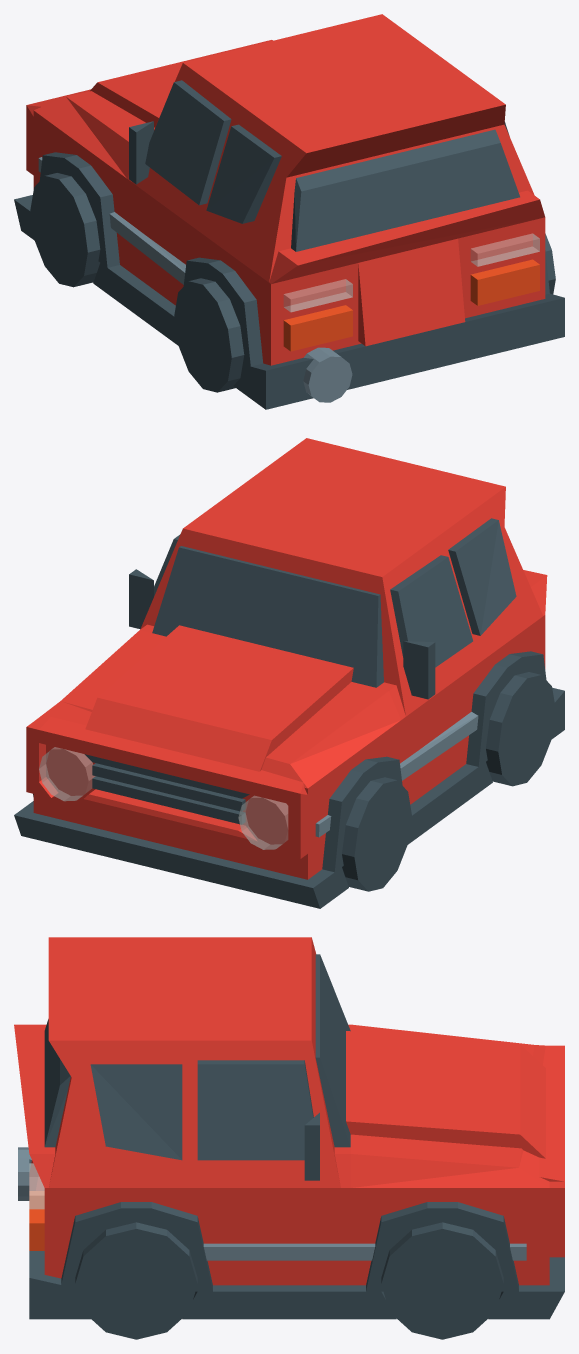
The model's file is cars.obj.
3 renders of one model, top to bottom at view 1: azimuth 30°, elevation 25°; view 2: azimuth 150°, elevation 25°; view 3: azimuth 270°, elevation 25°, orthographic. The views are drawn at different scales.
Visible parts, largest first — view 1: group2017902997, group373236087, group2118011109, group547768100, group359046379, group686971371, group2060816111, group1129954348, group1603761372, group1729932470, group740239471, group2008520726 (+5 smaller); view 2: group2017902997, group583836635, group1372723494, group547768100, group1092676882, group2060816111, group686971371, group2044362016, group10036750, group1729932470, group740239471, group2008520726 (+3 smaller); view 3: group2017902997, group842921121, group2060816111, group686971371, group2008520726, group159400031, group1372723494, group1903564485, group583836635, group116960146, group2118011109, group1092676882 (+4 smaller).
Part boxes in pixels (x1,y1,x2,y2): group2017902997: (33,14,545,365); group373236087: (291,129,519,251); group2118011109: (233,293,564,409); group547768100: (145,80,281,223); group359046379: (358,238,465,346); group686971371: (174,233,555,392); group2060816111: (30,173,100,287); group1129954348: (283,279,352,351); group1603761372: (470,233,539,305); group1729932470: (39,152,119,267); group740239471: (183,257,263,366); group2008520726: (93,263,178,345); group2017902997: (33,438,547,879); group583836635: (152,546,383,687); group1372723494: (26,717,314,858); group547768100: (390,518,516,667); group1092676882: (14,801,348,908); group2060816111: (33,777,411,891); group686971371: (486,672,555,786); group2044362016: (84,754,249,824); group10036750: (39,747,287,849); group1729932470: (322,756,402,872); group740239471: (466,651,546,766); group2008520726: (408,762,492,844); group2017902997: (14,937,549,1285); group842921121: (90,1060,313,1160); group2060816111: (381,1222,503,1339); group686971371: (75,1222,197,1339); group2008520726: (182,1285,396,1319); group159400031: (366,1202,518,1291); group1372723494: (534,1045,564,1257); group1903564485: (61,1202,212,1291); group583836635: (315,954,350,1147); group116960146: (203,1243,526,1260); group2118011109: (29,1159,90,1319); group1092676882: (488,1257,564,1319).
Bounding box in the file's own units: 0.26 × 0.1923 × 0.36.
